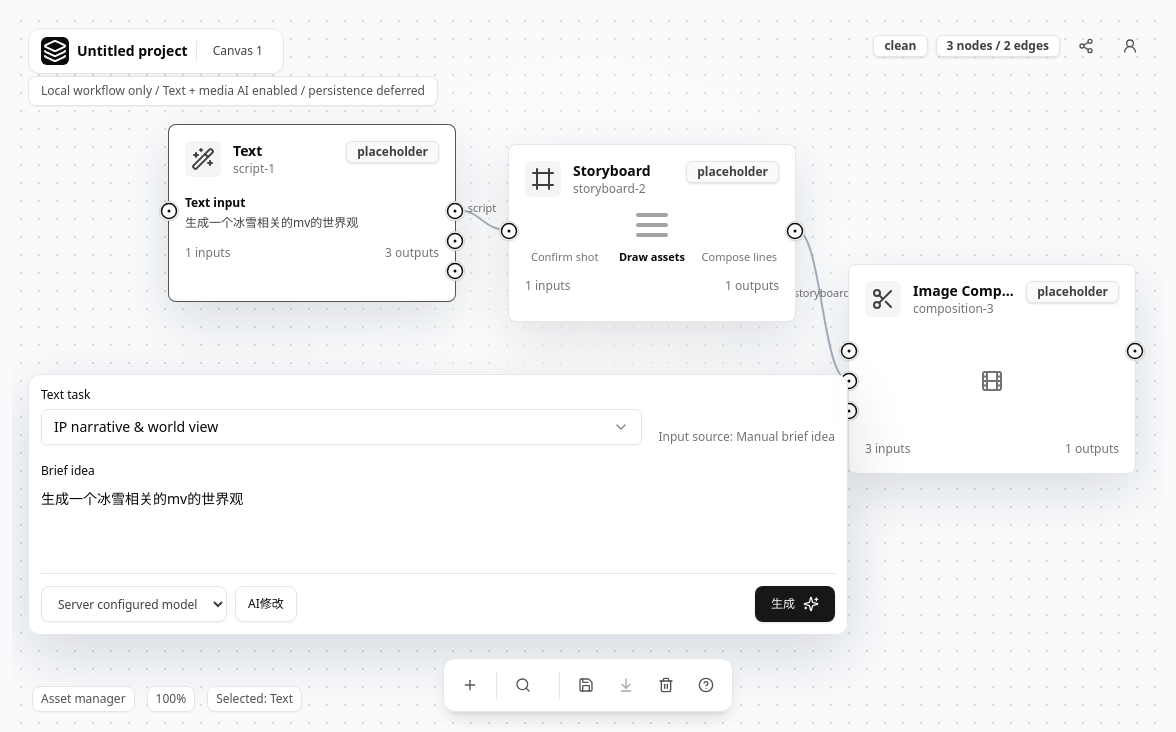
Test: WorkflowCanvasWorkspace Text node interactions › limits Add node to the supported Text, Image, Audio, and Video models
Click the button named "Add node": (470, 685) [452,667,488,703]
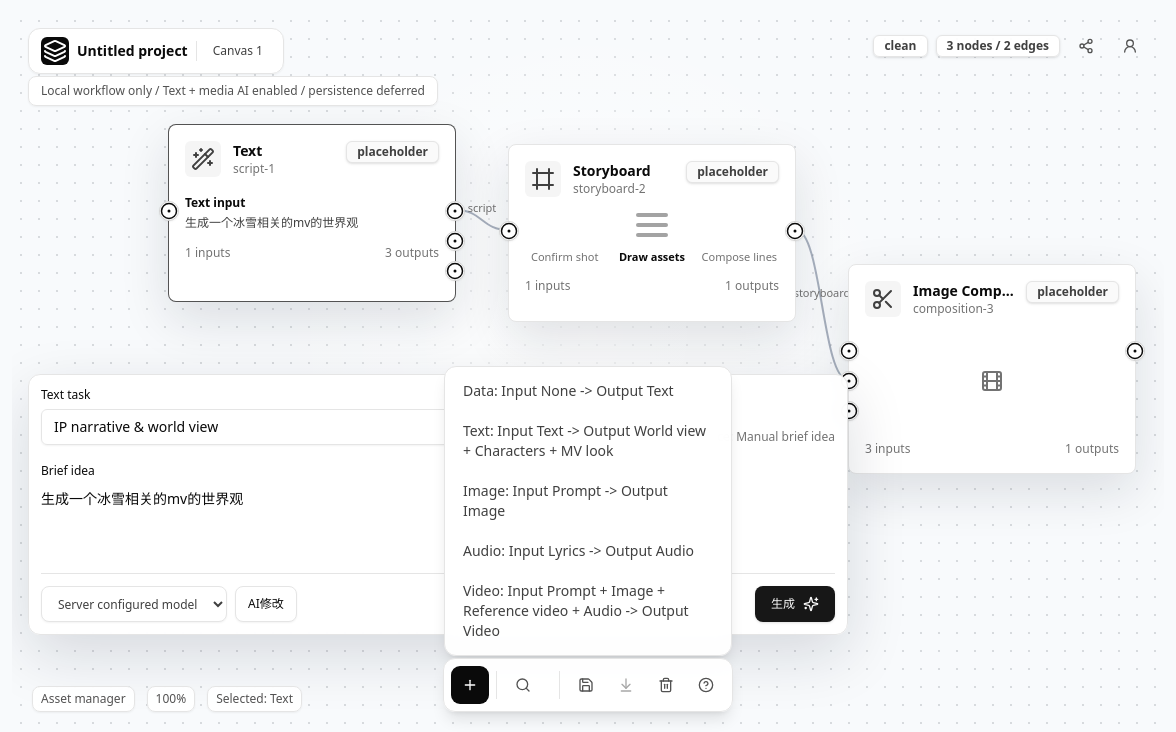
Expected: the element that starts with "Data: Input None -> Output Text" is shown, [444,366,732,656]
Expected: the button with aria-label "Add Data:" is shown, [451,373,725,409]
Expected: the button with aria-label "Add Text:" is shown, [451,413,725,469]
